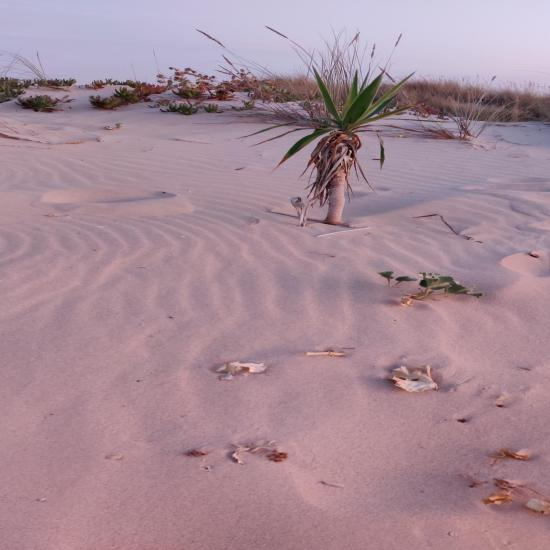Garbage bag: (291, 236, 550, 395)
Plastic film: (143, 221, 299, 278)
